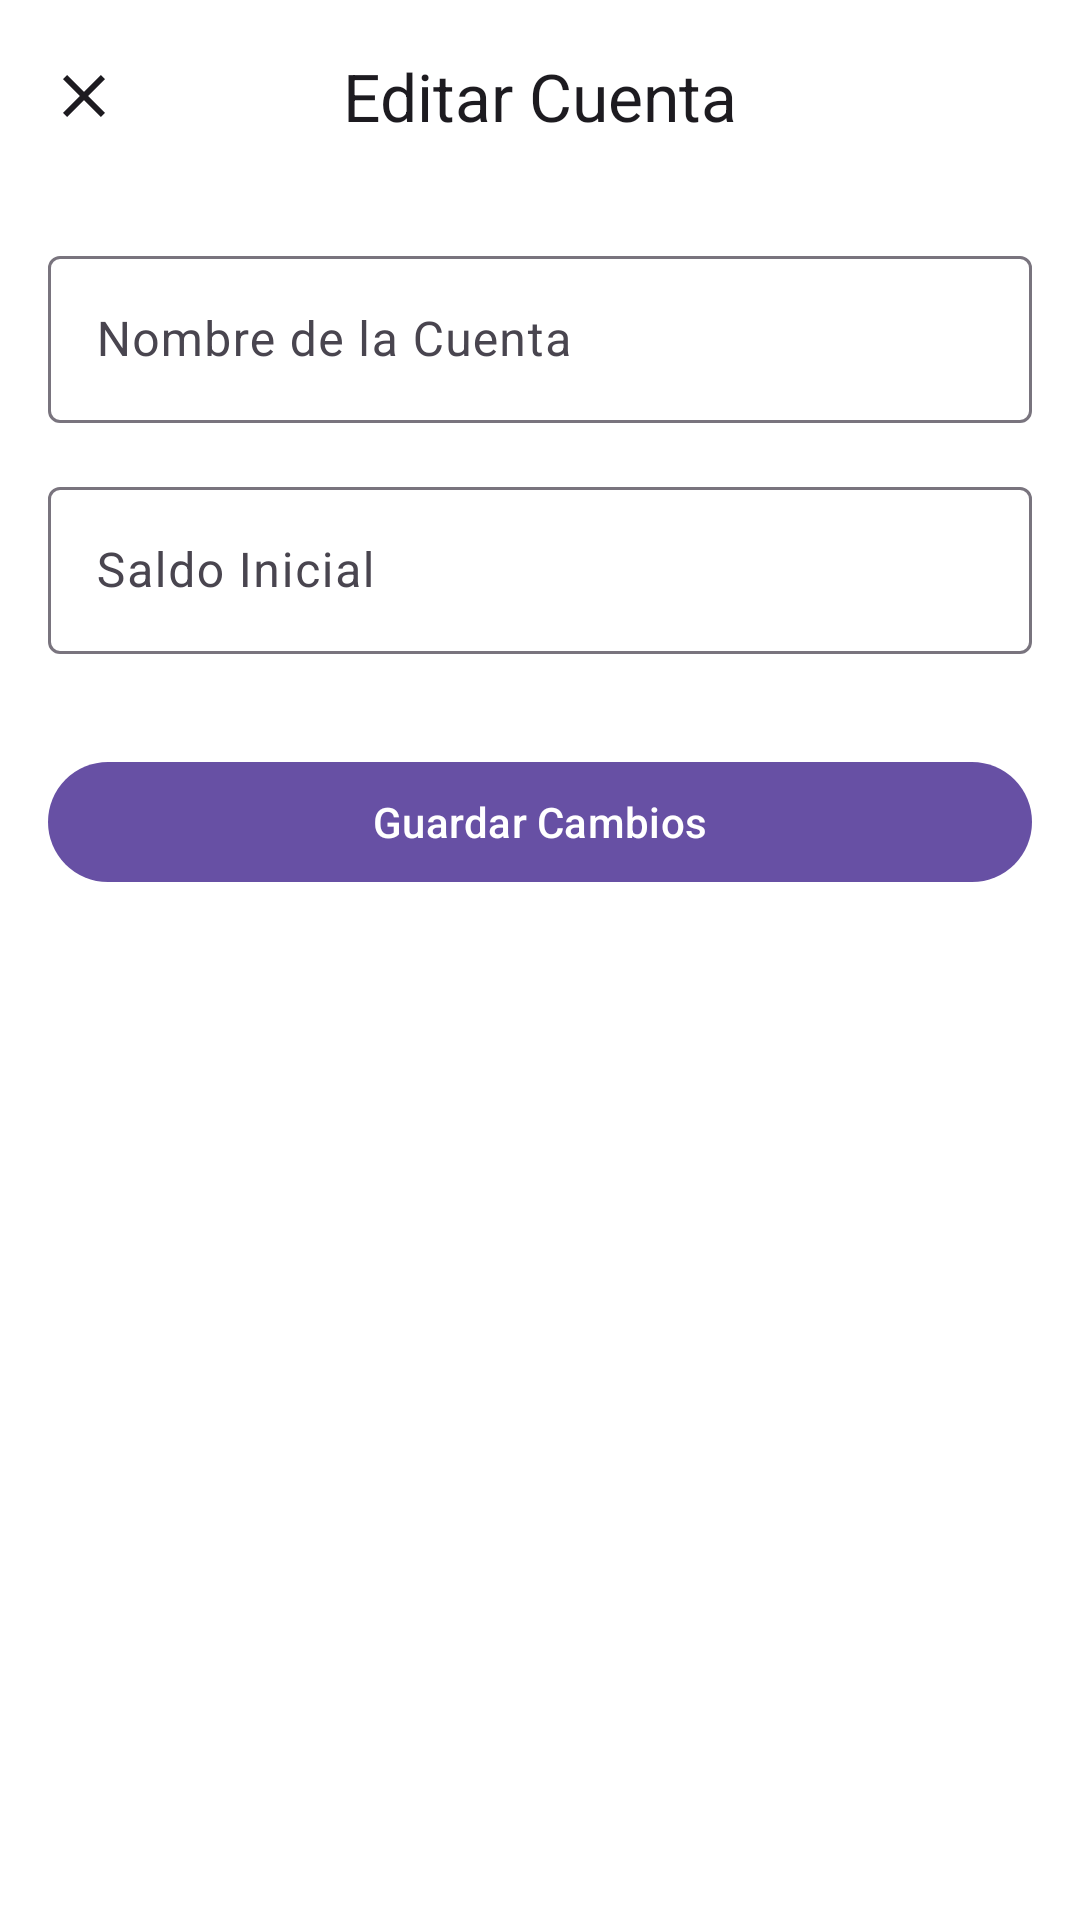

Named icons in this screenshot (1080 x 1920) and their bounding boxes, (x1, y1, x2, y2):
Cerrar: (63, 75, 105, 117)
